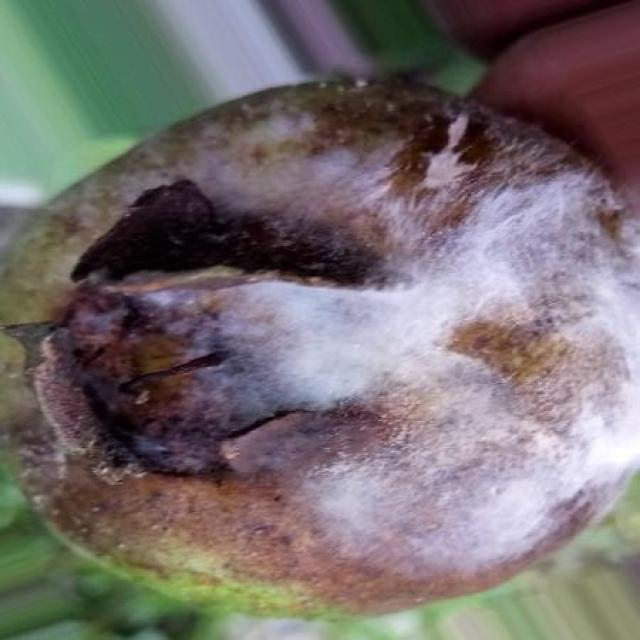Phytopthora: (0, 82, 640, 611)
